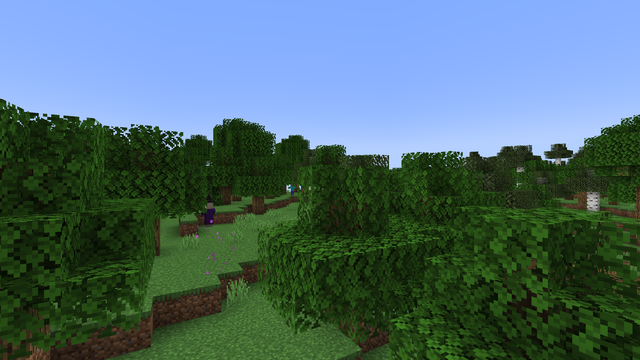sorcieres: (204, 201, 213, 227)
zombies: (290, 186, 294, 194)
